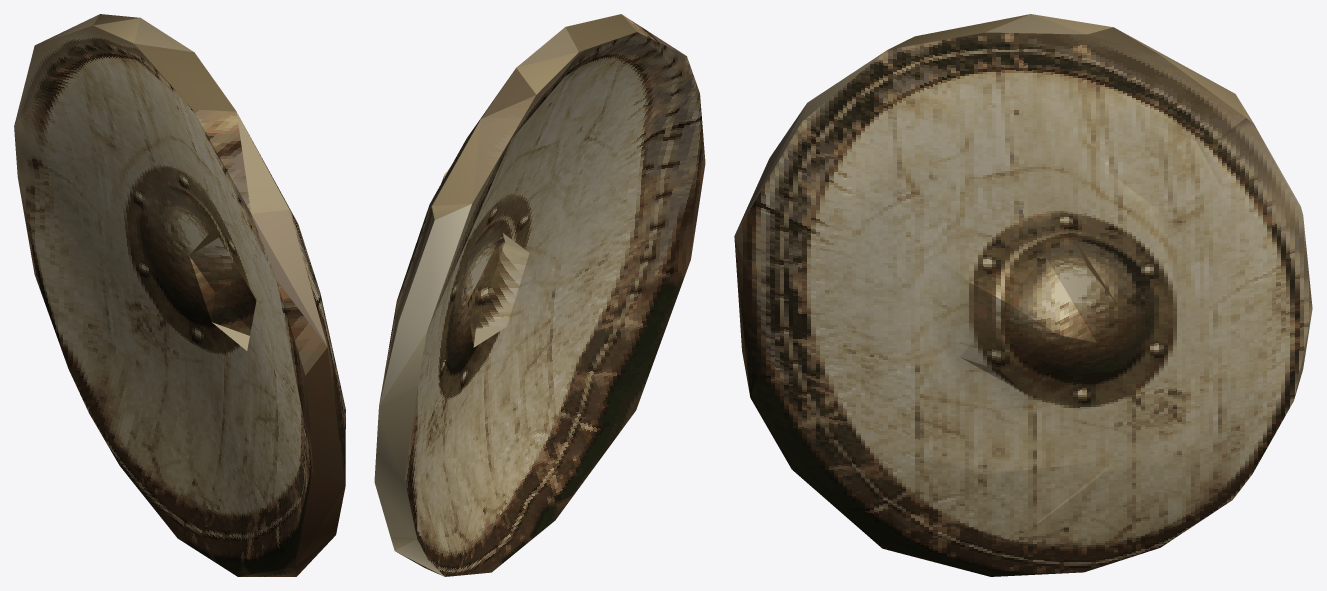
File: cuero.glb
The picture shows the model from 3 angles, left to right: view 1: azimuth 30°, elevation 25°; view 2: azimuth 150°, elevation 25°; view 3: azimuth 270°, elevation 25°; orthographic projection.
Visible parts, largest first — view 1: escudo.mano.cuero; view 2: escudo.mano.cuero; view 3: escudo.mano.cuero.
Part boxes in pixels (x1,y1,x2,y2): escudo.mano.cuero: [14, 14, 345, 576]; escudo.mano.cuero: [374, 14, 705, 576]; escudo.mano.cuero: [734, 14, 1312, 576].
Bounding box in the file's own units: 0.1415 × 0.5443 × 0.5484.
1 material, 1 textured.
